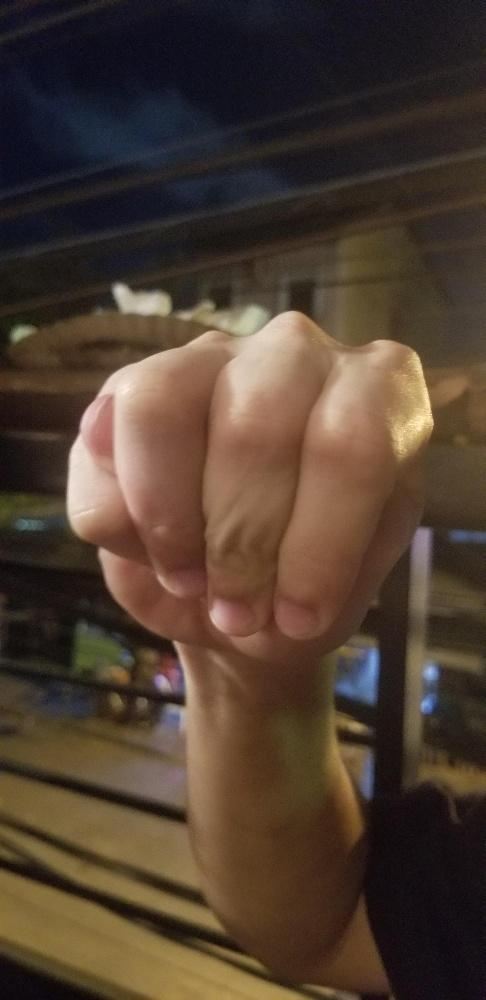m: (58, 304, 438, 663)
